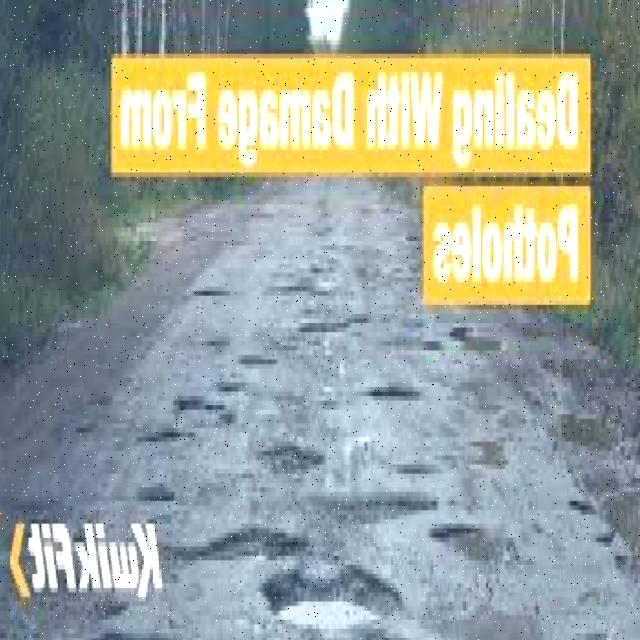pothole: (285, 569, 404, 615), (184, 528, 298, 560)
